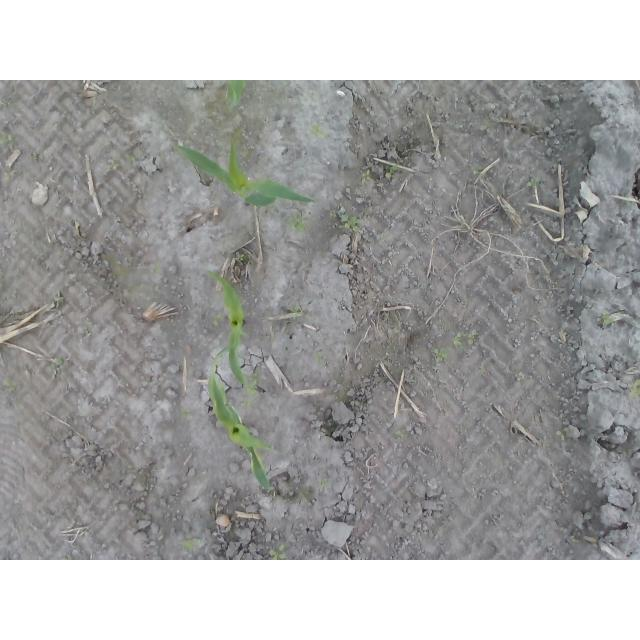Maize: (171, 133, 319, 208), (208, 356, 288, 492), (204, 268, 253, 392), (225, 81, 247, 103)
Weeds: (241, 373, 259, 403), (339, 212, 362, 232), (286, 218, 307, 235), (0, 377, 22, 393), (309, 124, 331, 138), (181, 538, 205, 550), (54, 358, 67, 380), (1, 130, 15, 150), (270, 544, 286, 560), (466, 329, 479, 347), (317, 481, 332, 496), (433, 347, 447, 363), (630, 379, 640, 400), (293, 299, 304, 318), (602, 310, 614, 327), (52, 292, 66, 305), (556, 427, 569, 441), (386, 165, 398, 180), (213, 312, 223, 329), (181, 409, 193, 423), (453, 333, 464, 348), (525, 179, 543, 188), (1, 171, 15, 181), (362, 169, 371, 184), (105, 161, 117, 172), (314, 352, 324, 365), (83, 325, 92, 339), (478, 366, 488, 376), (516, 373, 527, 382), (151, 264, 161, 273), (236, 253, 245, 262), (124, 154, 133, 163), (396, 430, 405, 439), (471, 164, 480, 173)
